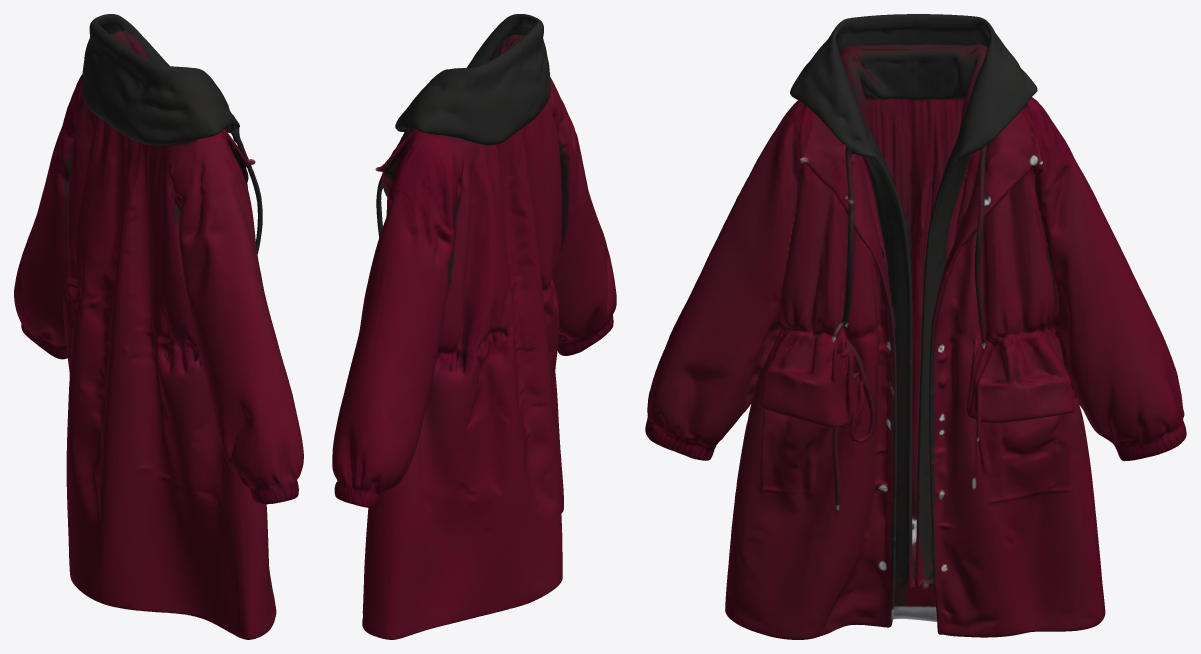
File: tripo_pbr_model_345b7f63-644d-_cd0267db_opt.glb
3 renders of one model, left to right at view 1: azimuth 30°, elevation 25°; view 2: azimuth 150°, elevation 25°; view 3: azimuth 270°, elevation 25°, orthographic. The views are drawn at different scales.
Visible parts, largest first — view 1: tripo_node_345b7f63-644d-4c94-904e-d624bb18b76d; view 2: tripo_node_345b7f63-644d-4c94-904e-d624bb18b76d; view 3: tripo_node_345b7f63-644d-4c94-904e-d624bb18b76d.
Boxes of the visible parts, <box> form: tripo_node_345b7f63-644d-4c94-904e-d624bb18b76d: <box>14,14,303,639</box>; tripo_node_345b7f63-644d-4c94-904e-d624bb18b76d: <box>332,14,616,639</box>; tripo_node_345b7f63-644d-4c94-904e-d624bb18b76d: <box>645,14,1186,639</box>.
Bounding box in the file's own units: 0.2871 × 1 × 0.8474.
Materials: 1 (1 with a texture image).
